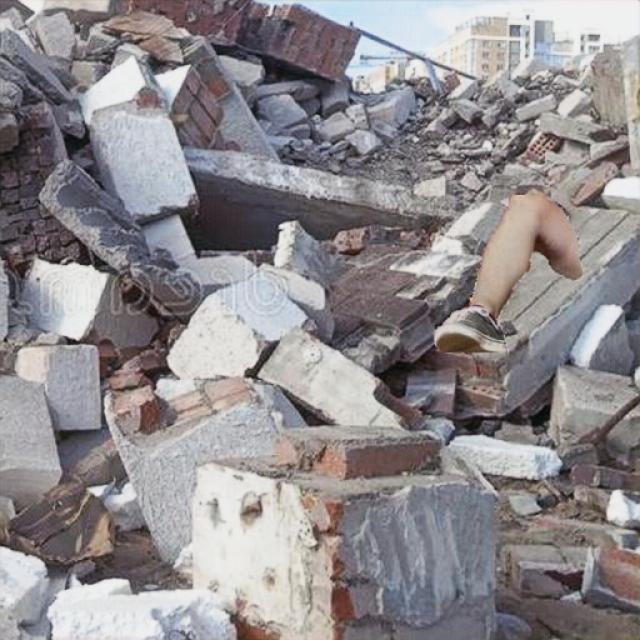Person in Rubble: (433, 195, 582, 351)
